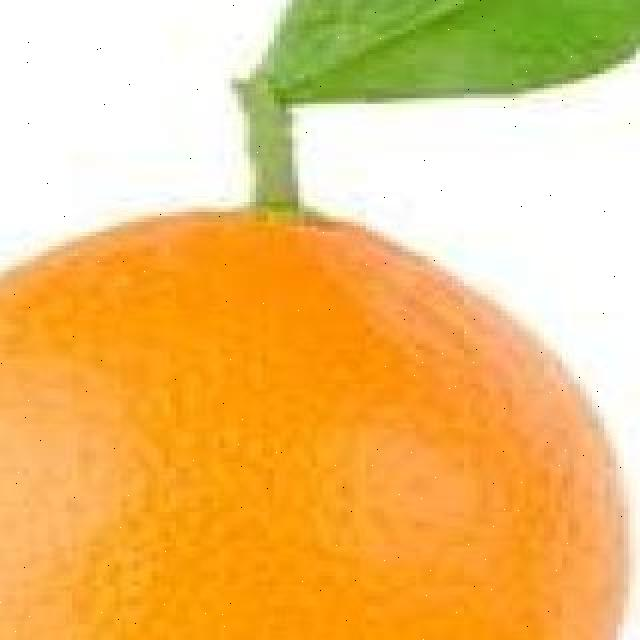orange: (0, 200, 630, 640)
